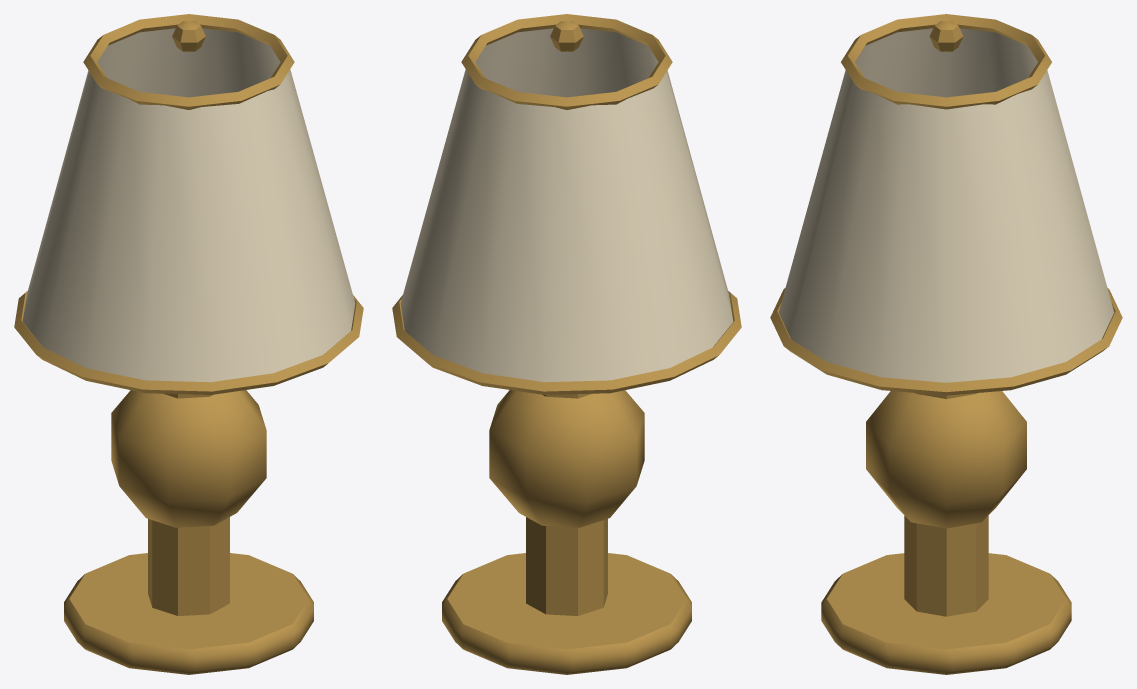
File: lamp_table_lamp.glb
3 views of the same model, side by side, from view 1: azimuth 30°, elevation 25°; view 2: azimuth 150°, elevation 25°; view 3: azimuth 270°, elevation 25° (orthographic).
Visible parts, largest first — view 1: lamp_table_lamp; view 2: lamp_table_lamp; view 3: lamp_table_lamp.
Boxes of the visible parts, x1,y1,x2,y2 form: lamp_table_lamp: [14, 14, 363, 674]; lamp_table_lamp: [392, 14, 741, 674]; lamp_table_lamp: [770, 14, 1122, 674].
Bounding box in the file's own units: 0.25 × 0.472 × 0.25.
